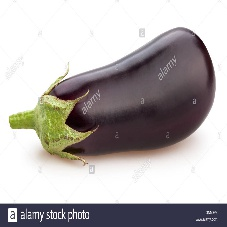eggplant: (38, 27, 215, 155)
